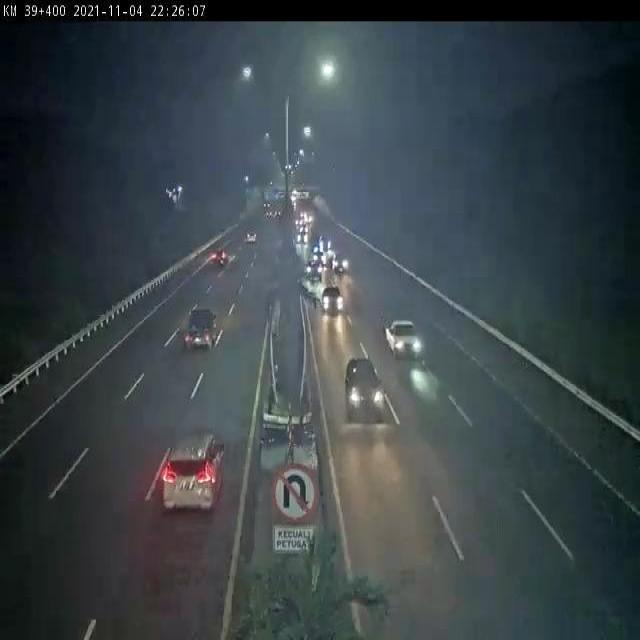car: (140, 426, 227, 534), (336, 356, 391, 423), (388, 305, 423, 372), (319, 274, 348, 326), (204, 251, 225, 284), (240, 235, 258, 260), (193, 354, 198, 374)
truck-s-: (165, 297, 217, 375)
